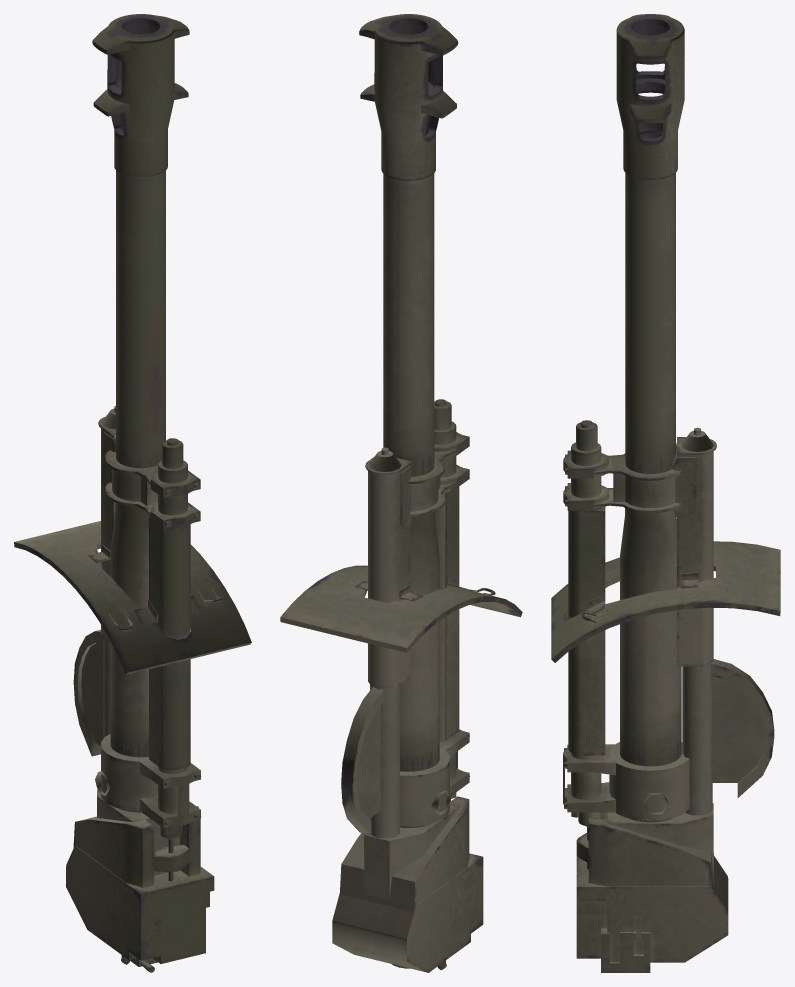
Rendered from Gun_02.glb.
3 views of the same model, side by side, from view 1: azimuth 30°, elevation 25°; view 2: azimuth 150°, elevation 25°; view 3: azimuth 270°, elevation 25° (orthographic).
Parts seen in each view (by area): view 1: set_0_group_0; view 2: set_0_group_0; view 3: set_0_group_0.
Part boxes in pixels (x1,y1,x2,y2): set_0_group_0: (14,14,251,972); set_0_group_0: (280,14,522,972); set_0_group_0: (551,14,780,972).
Bounding box in the file's own units: 0.5997 × 4.26 × 0.9461.
Materials: 1 (1 with a texture image).
